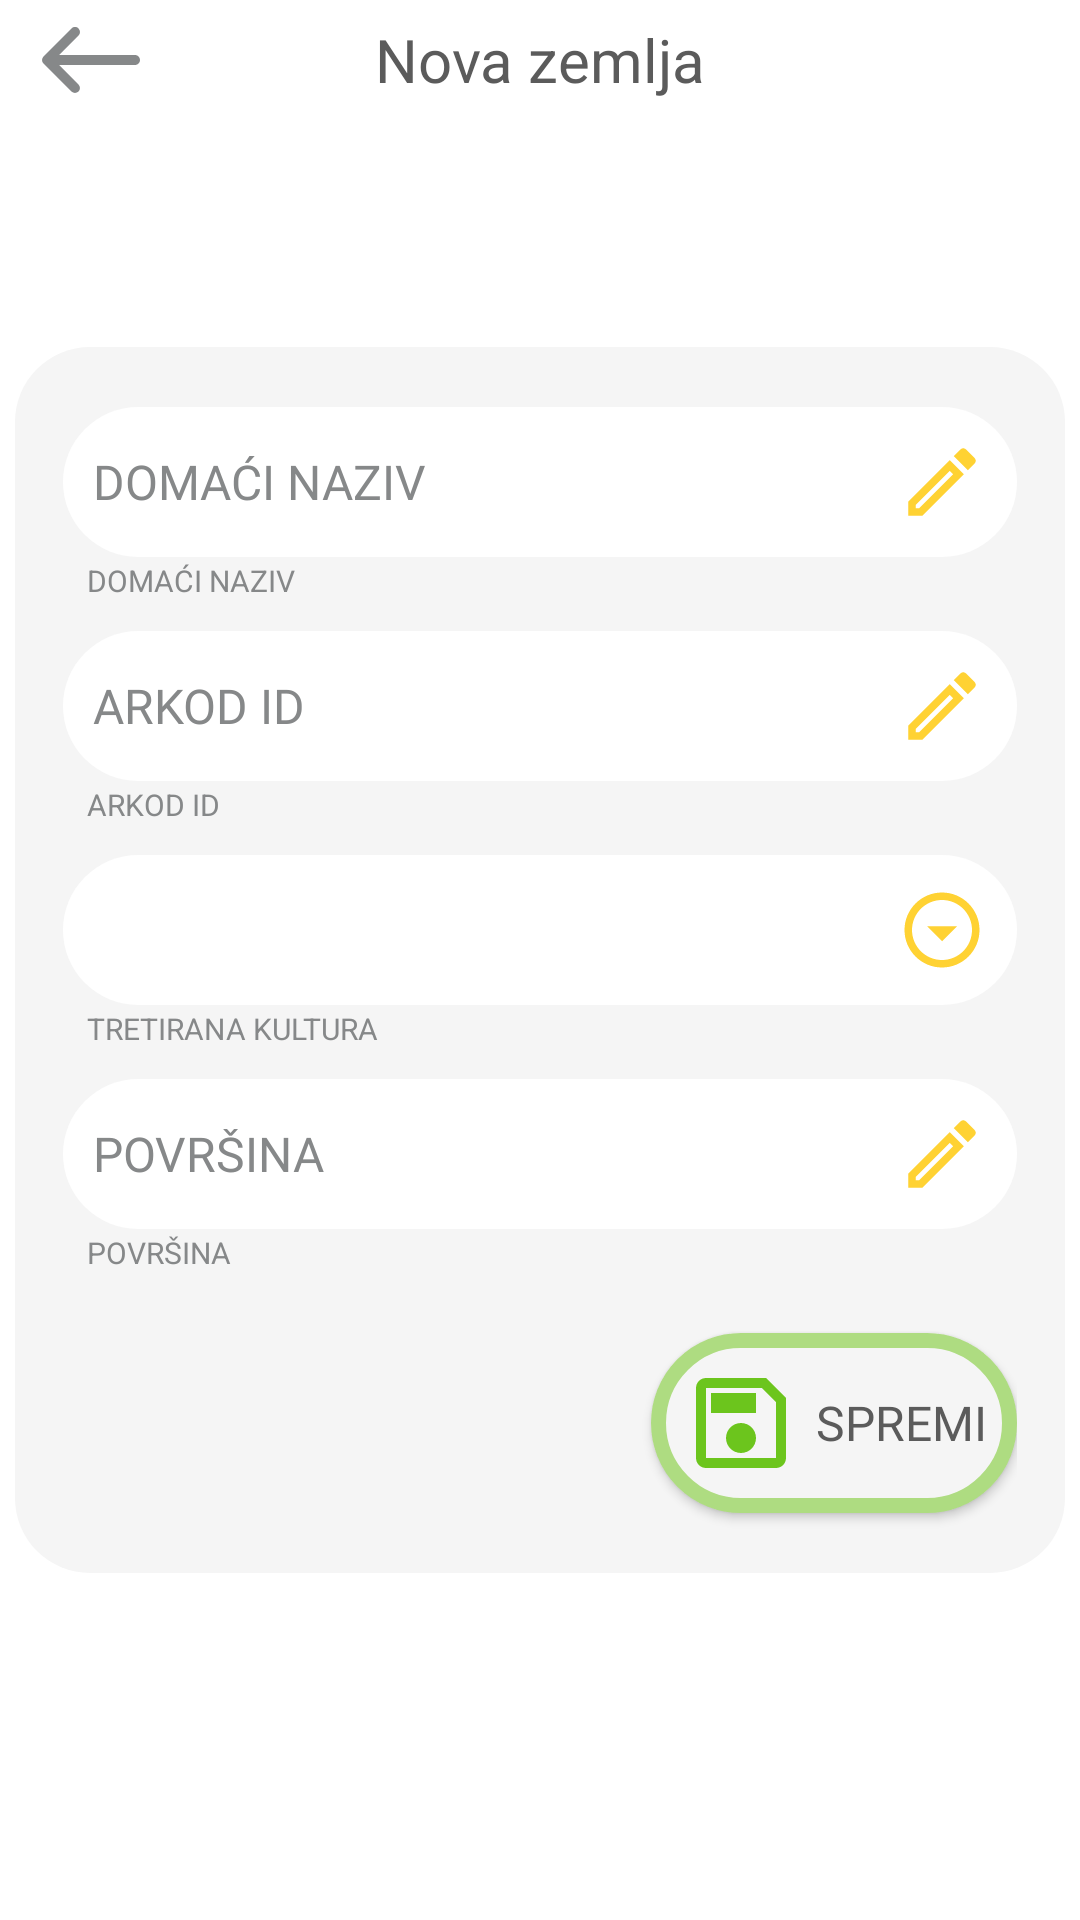

Where to tap for icons on this 1080w x 1920h app screen, as [x,y]:
arrow: [91,60]
